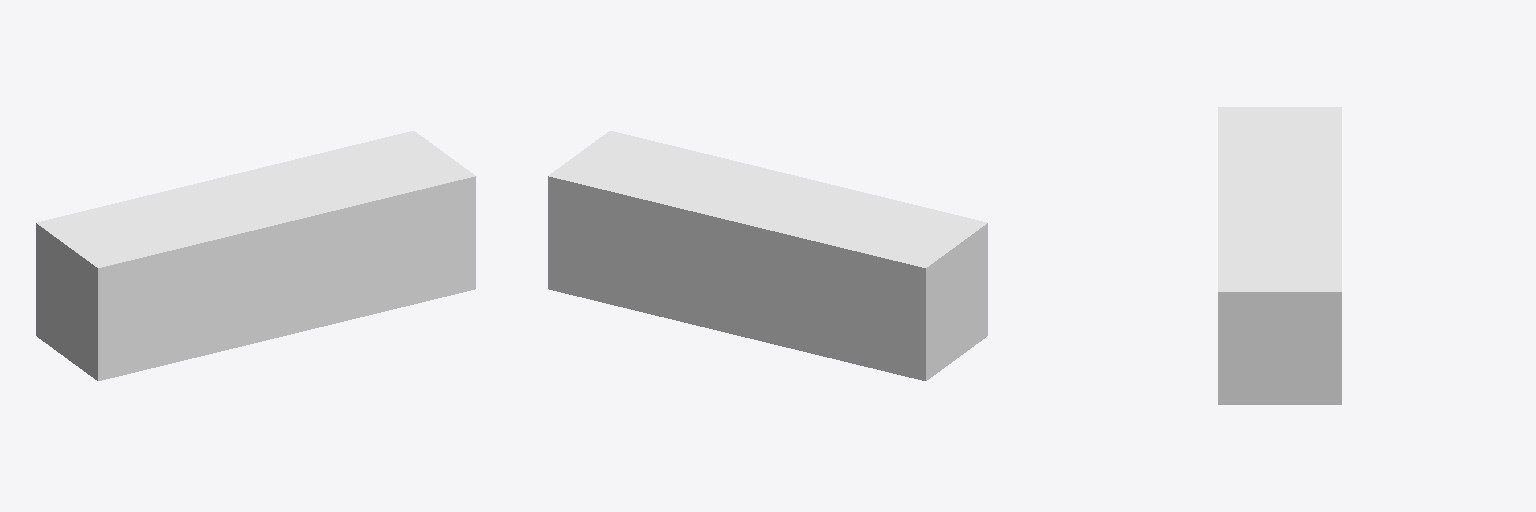
The model's file is pesari_hanta.obj.
The picture shows the model from 3 angles: view 1: azimuth 30°, elevation 25°; view 2: azimuth 150°, elevation 25°; view 3: azimuth 270°, elevation 25°; orthographic projection.
Bounding box in the file's own units: 7 × 2 × 2.